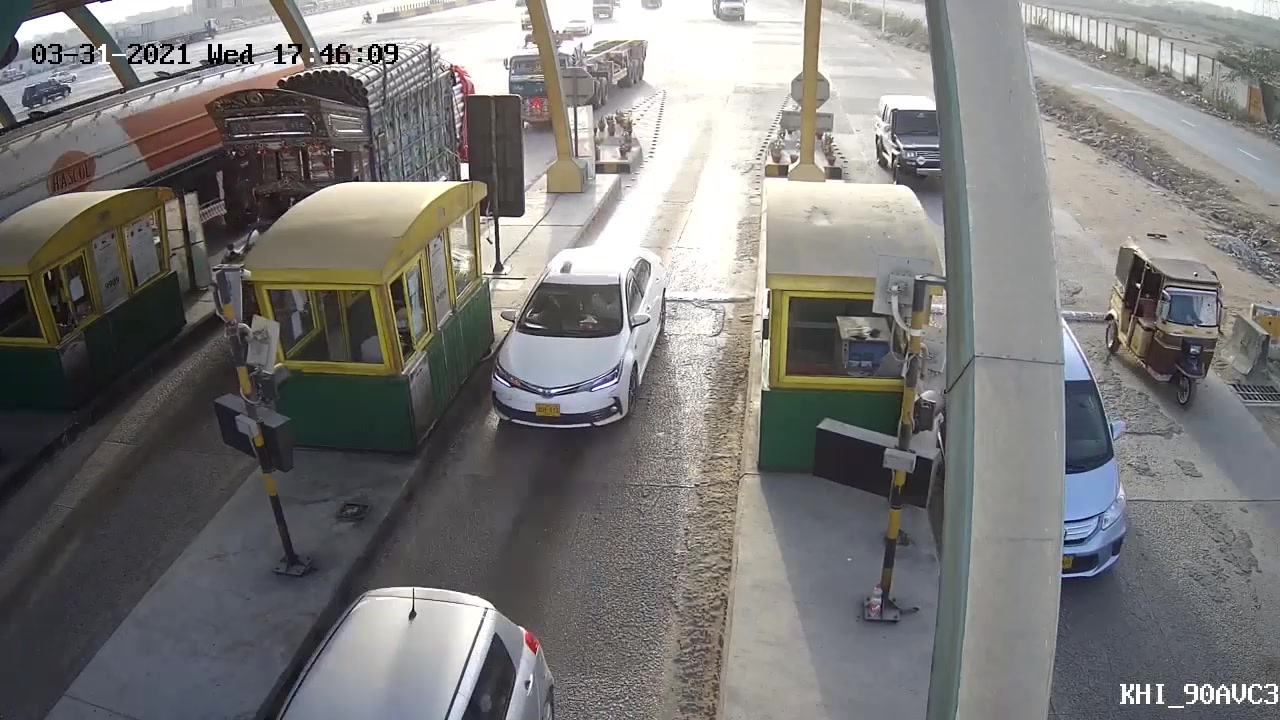F1: (489, 239, 672, 429)
